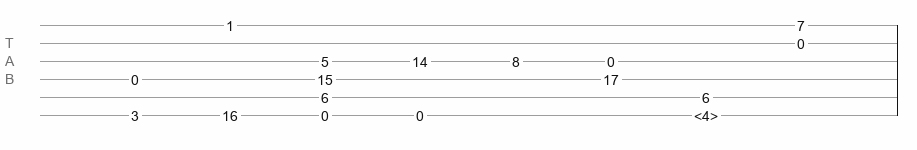0: (131, 72, 139, 82), (321, 108, 329, 118), (416, 108, 424, 118), (607, 54, 615, 64), (797, 36, 805, 46)
1: (226, 18, 234, 28)
14: (412, 54, 428, 64)
15: (317, 72, 333, 82)
16: (222, 108, 238, 118)
17: (603, 72, 619, 82)
3: (131, 108, 139, 118)
5: (321, 54, 329, 64)
6: (321, 90, 329, 100), (702, 90, 710, 100)
7: (797, 18, 805, 28)
8: (512, 54, 520, 64)
harmonic: (694, 108, 718, 118)
